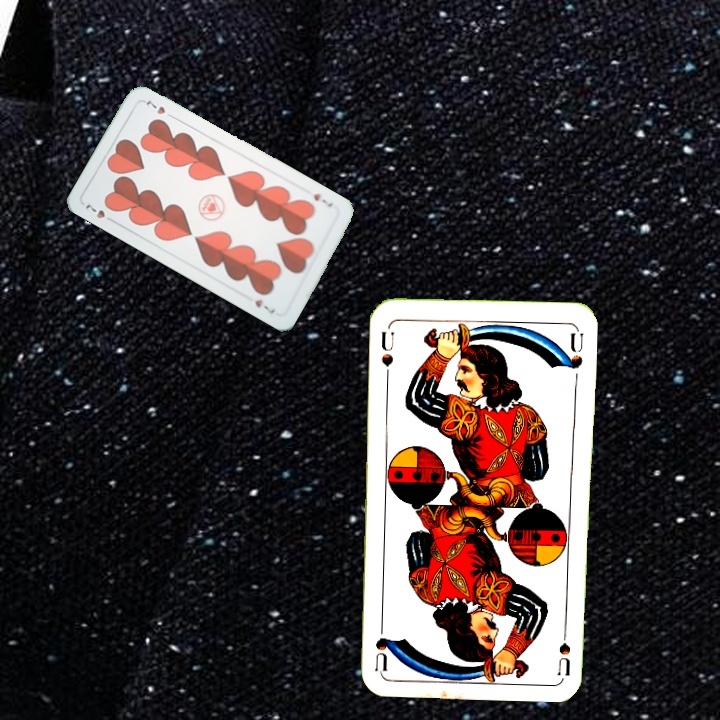H7: (81, 200, 117, 225), (309, 189, 335, 210)
SU: (377, 322, 397, 381), (554, 617, 573, 676)
